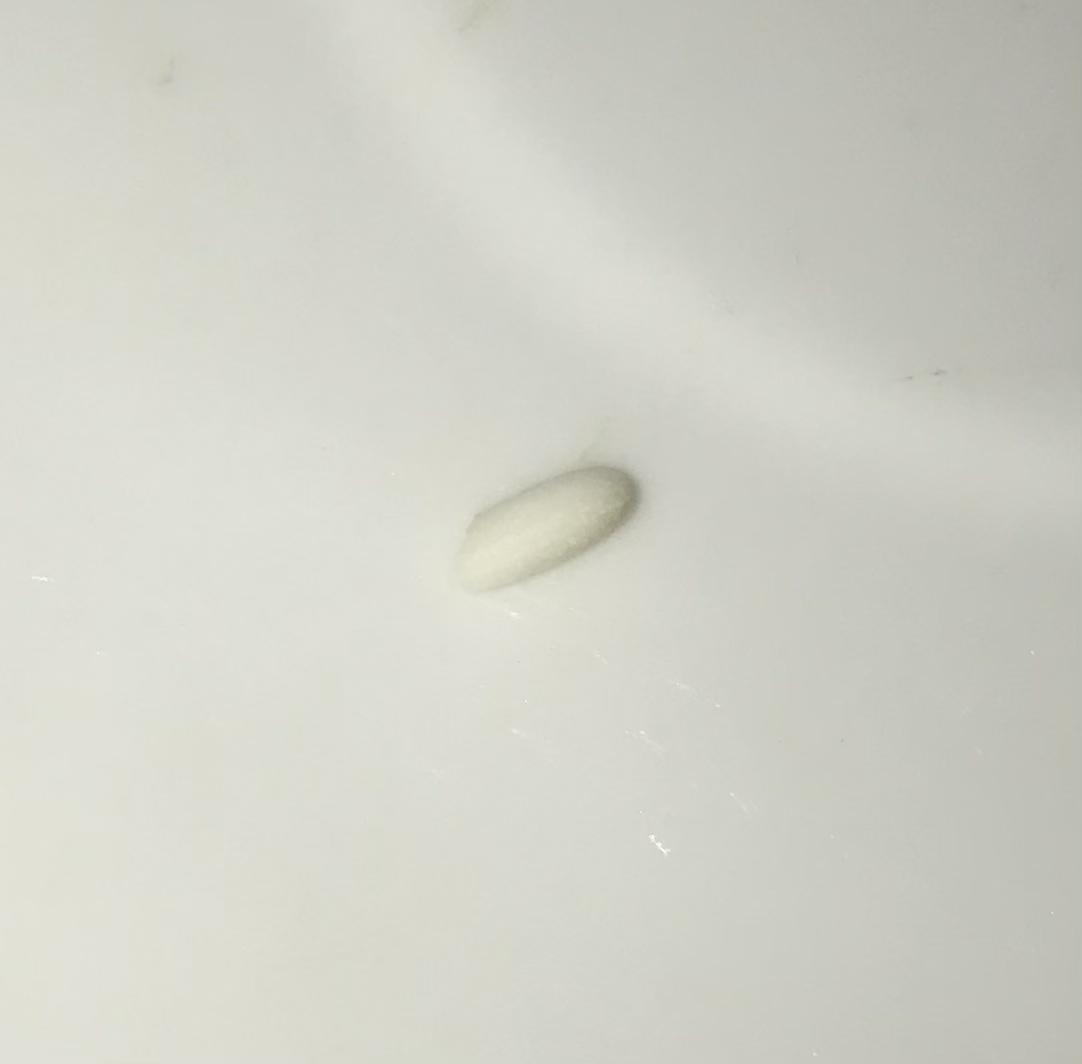Gao Nep Sap: (447, 459, 657, 612)
